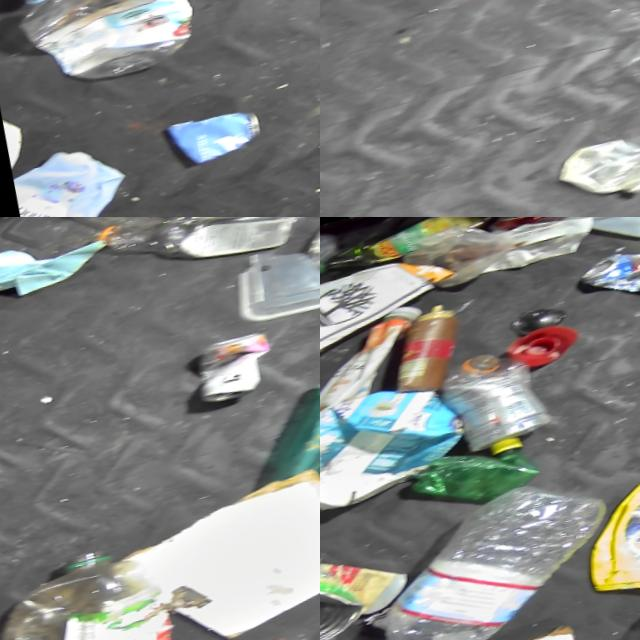can: (167, 101, 272, 173), (192, 330, 280, 409), (320, 552, 377, 640), (576, 240, 640, 316), (486, 217, 554, 240)
milk_jug: (511, 217, 640, 275), (0, 93, 44, 205)
non_white_jug: (320, 369, 479, 524), (575, 453, 640, 618), (11, 136, 140, 217)
plastic_bottle: (354, 465, 634, 640), (0, 532, 188, 640), (11, 0, 206, 102), (92, 217, 320, 295), (434, 343, 553, 463)
